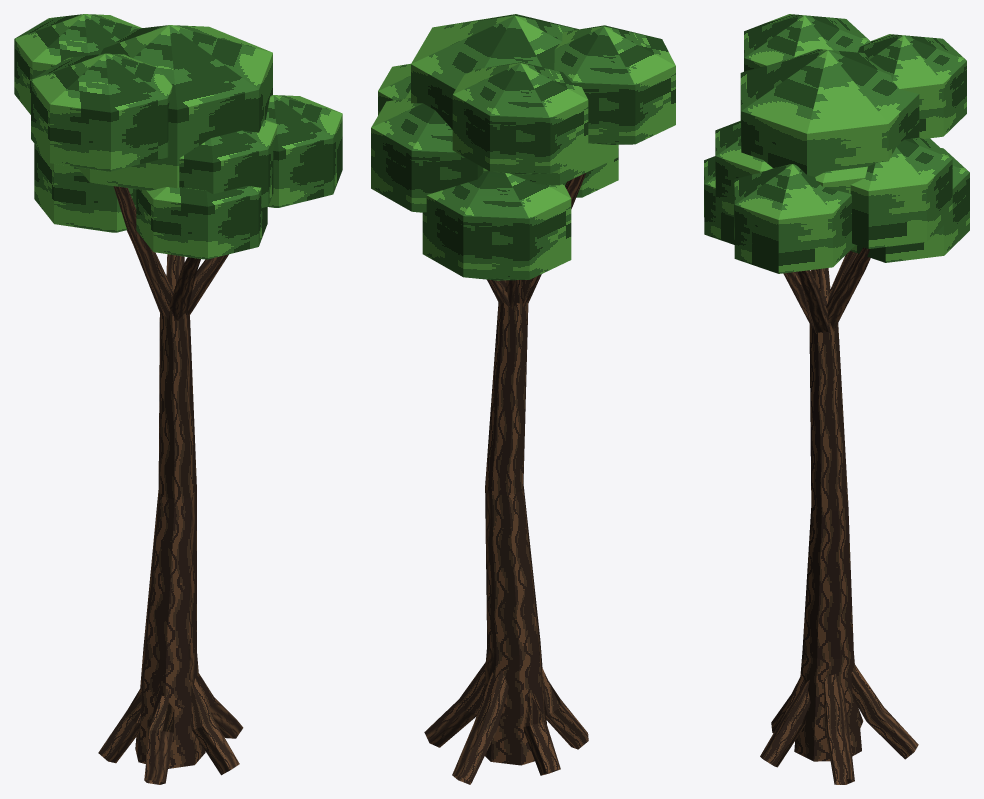
Rendered from arbolmayorIsla1.gltf.
3 views of the same model, side by side, from view 1: azimuth 30°, elevation 25°; view 2: azimuth 150°, elevation 25°; view 3: azimuth 270°, elevation 25° (orthographic). The views are drawn at different scales.
Parts seen in each view (by area): view 1: FLO-16_Arbol_mayor.476; view 2: FLO-16_Arbol_mayor.476; view 3: FLO-16_Arbol_mayor.476.
Boxes of the visible parts, x1,y1,x2,y2 form: FLO-16_Arbol_mayor.476: (14,14,342,784); FLO-16_Arbol_mayor.476: (371,14,675,784); FLO-16_Arbol_mayor.476: (704,14,969,784).
Size of the model in its own units: 9.09 by 22.26 by 7.61.
Materials: 1 (1 with a texture image).
